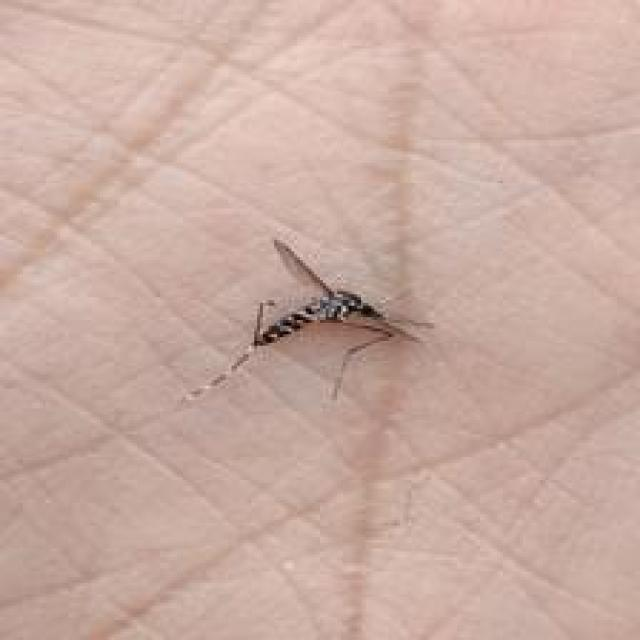Aedes albopictus: (181, 237, 433, 406)
